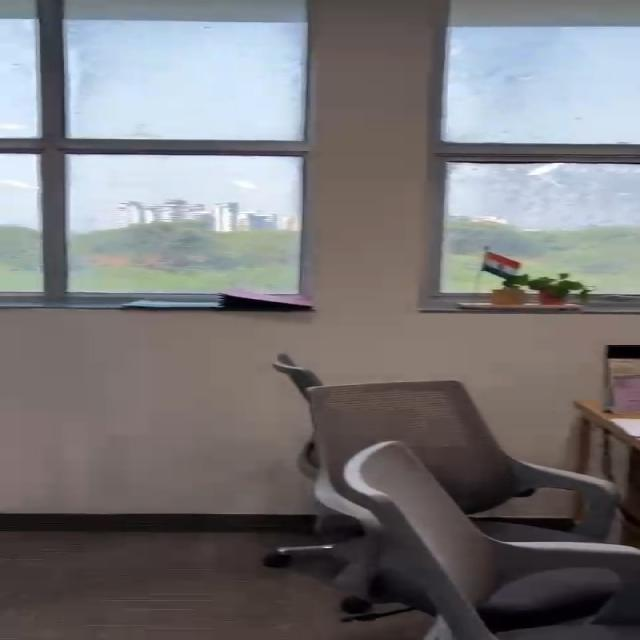floor: (0, 534, 278, 640)
furniture: (272, 353, 640, 640)
wall: (0, 0, 640, 346), (0, 355, 285, 503)
